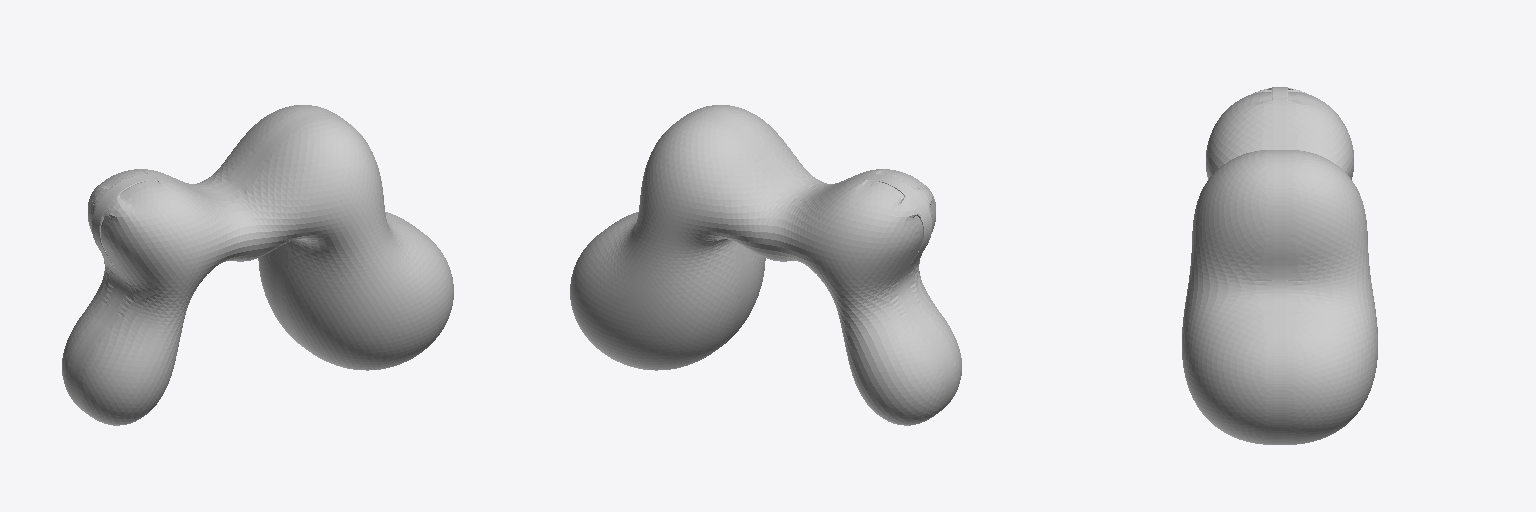
File: Asset 2.obj
The picture shows the model from 3 angles: view 1: azimuth 30°, elevation 25°; view 2: azimuth 150°, elevation 25°; view 3: azimuth 270°, elevation 25°; orthographic projection.
Visible parts, largest first — view 1: groupNumber_0; view 2: groupNumber_0; view 3: groupNumber_0.
Part boxes in pixels (left/top/right/bottom): groupNumber_0: left=62, top=105, right=453, bottom=425; groupNumber_0: left=570, top=105, right=961, bottom=425; groupNumber_0: left=1182, top=87, right=1377, bottom=444.
Bounding box in the file's own units: 19.05 × 12.79 × 8.9.